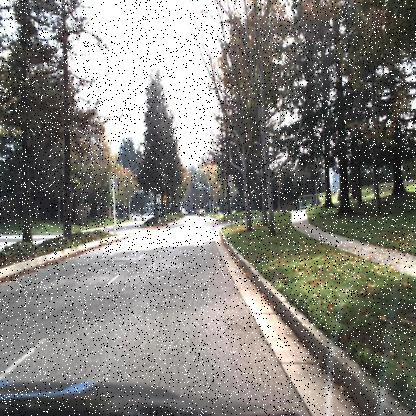car: (130, 211, 142, 222)
